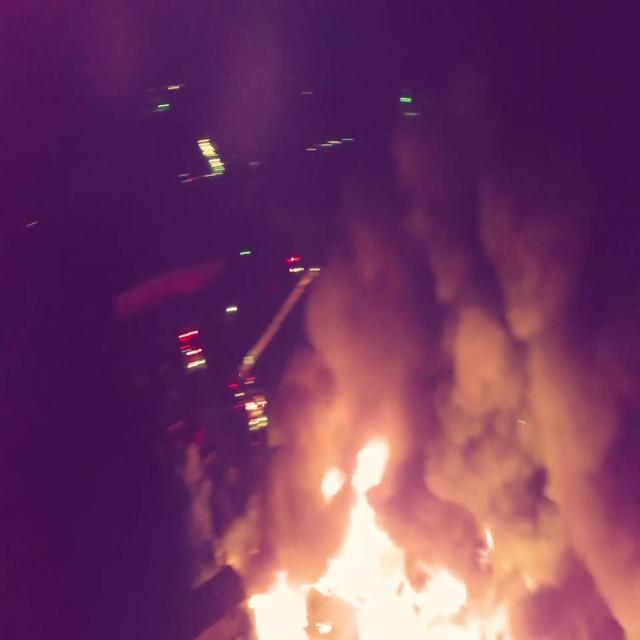Fire: (234, 440, 522, 640)
Smoke: (237, 44, 638, 555)
